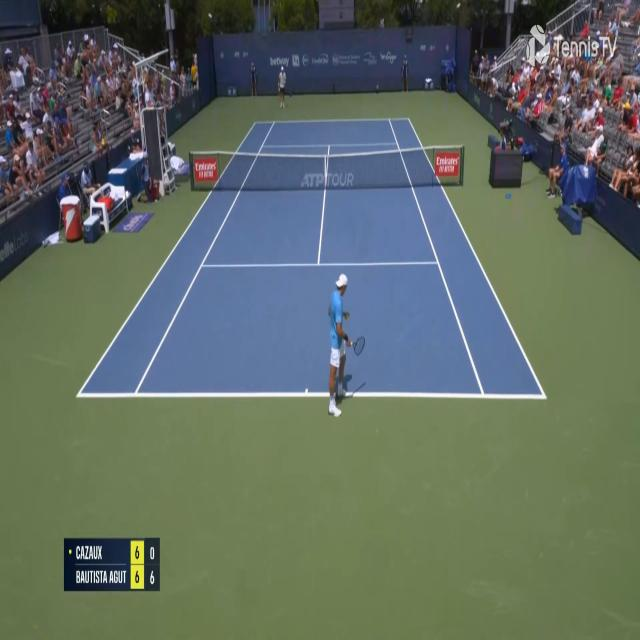tennis-player: (326, 270, 367, 422), (276, 66, 289, 110)
